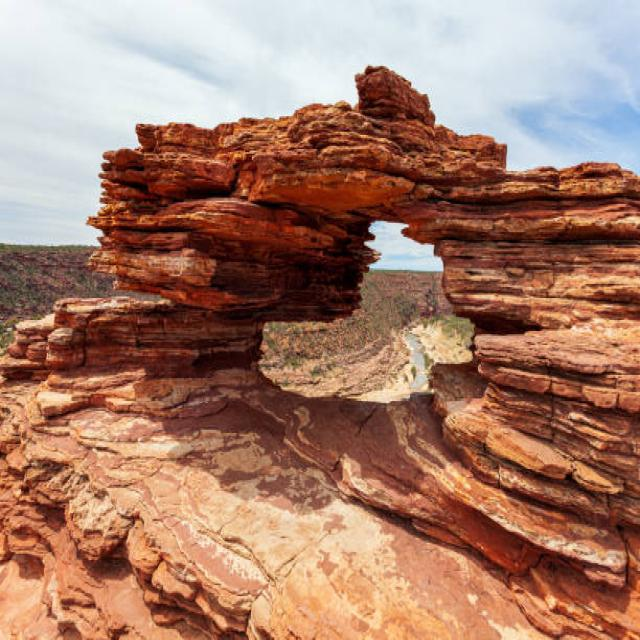Sedimentary: (3, 30, 639, 640)
